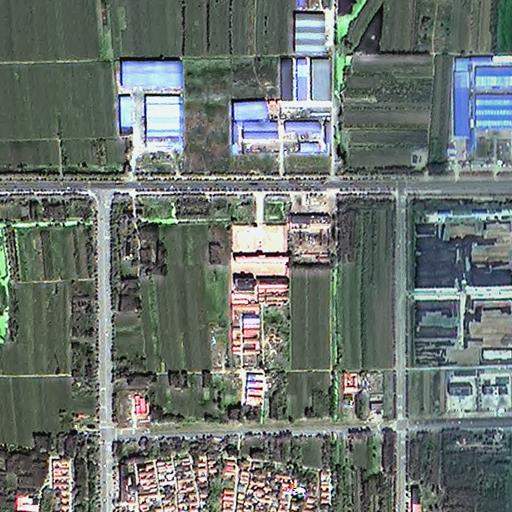school: (227, 221, 291, 307)
